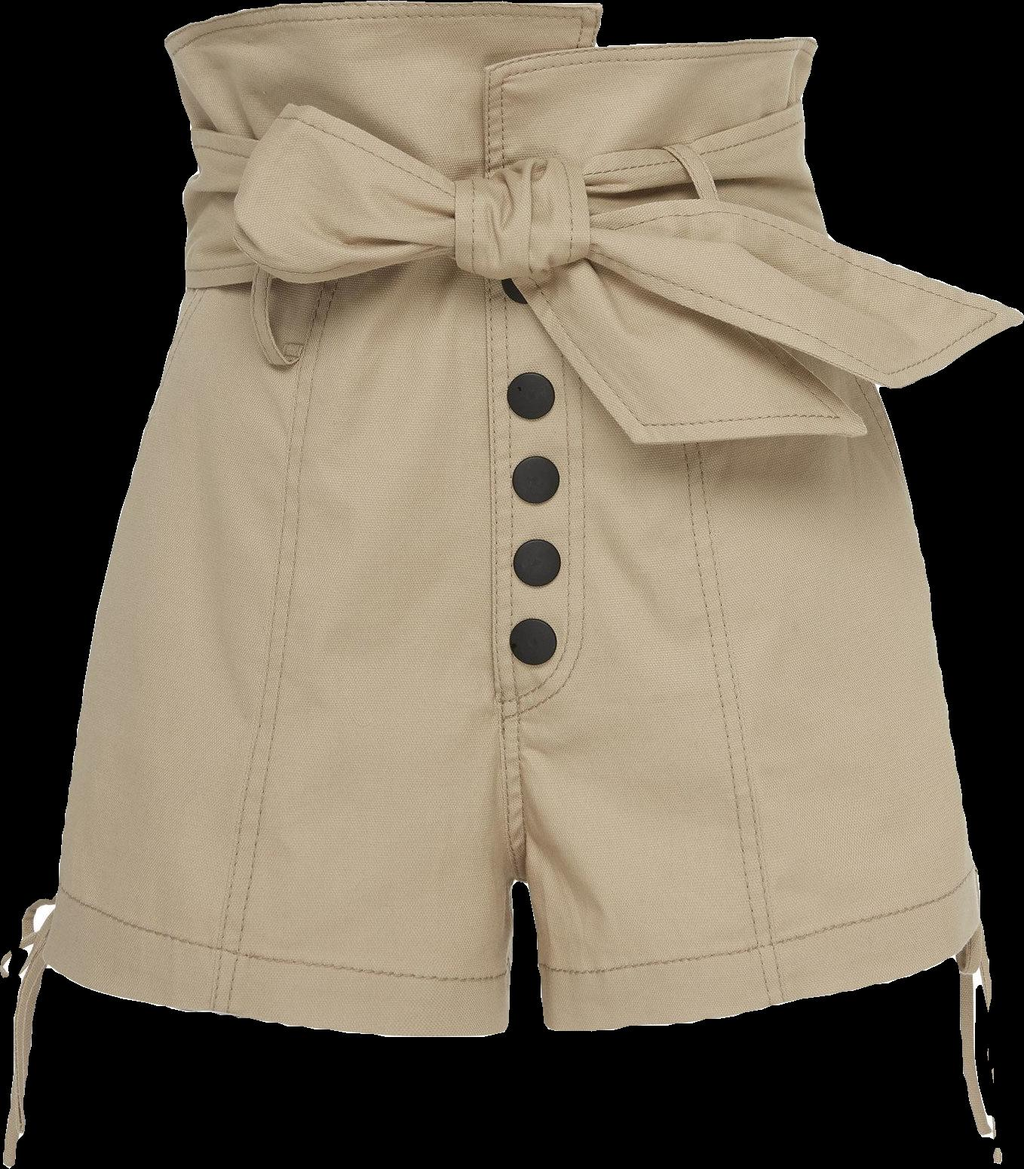Hemline: (544, 925, 984, 1035), (29, 948, 516, 1043)
Pantleg: (31, 2, 603, 1035), (483, 38, 1023, 1029)
Waistline: (161, 0, 592, 51), (483, 32, 818, 75)
